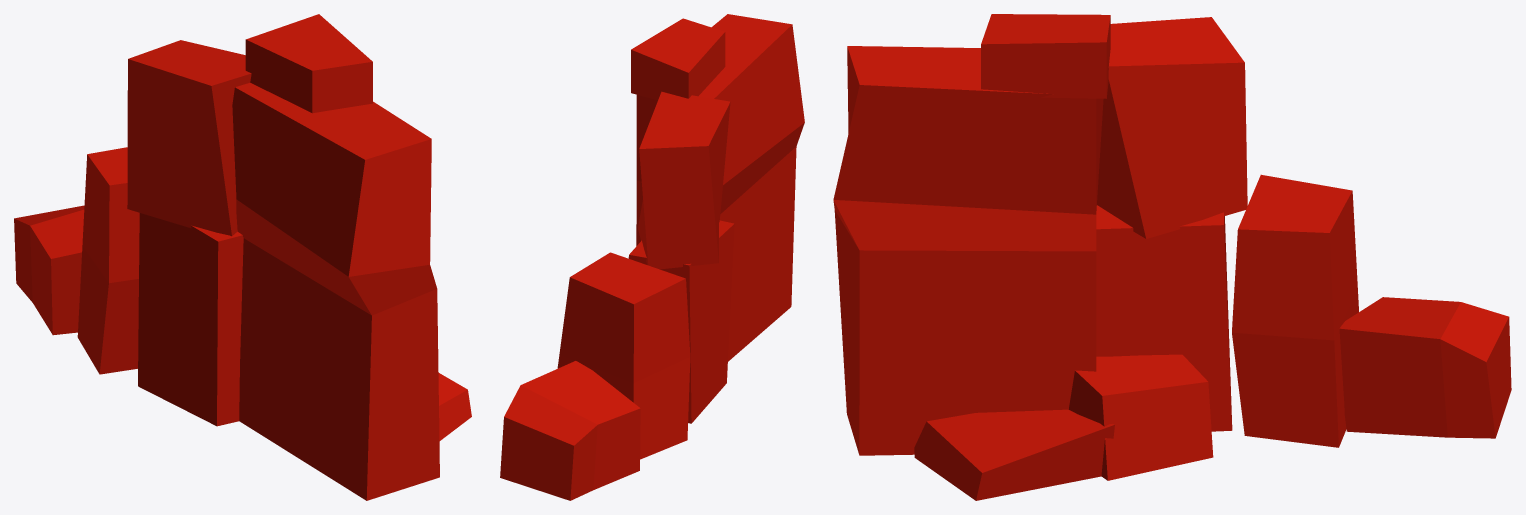
Rendered from UCX_cardboard_boxes.fbx.
The picture shows the model from 3 angles, left to right: view 1: azimuth 30°, elevation 25°; view 2: azimuth 150°, elevation 25°; view 3: azimuth 270°, elevation 25°; orthographic projection. The views are drawn at different scales.
Visible parts, largest first — view 1: UCX_cardboard_boxes; view 2: UCX_cardboard_boxes; view 3: UCX_cardboard_boxes.
Boxes of the visible parts, x1,y1,x2,y2 form: UCX_cardboard_boxes: (14, 14, 471, 500); UCX_cardboard_boxes: (500, 14, 804, 500); UCX_cardboard_boxes: (833, 14, 1511, 500).
Bounding box in the file's own units: 1.06 × 1.6 × 2.4.
